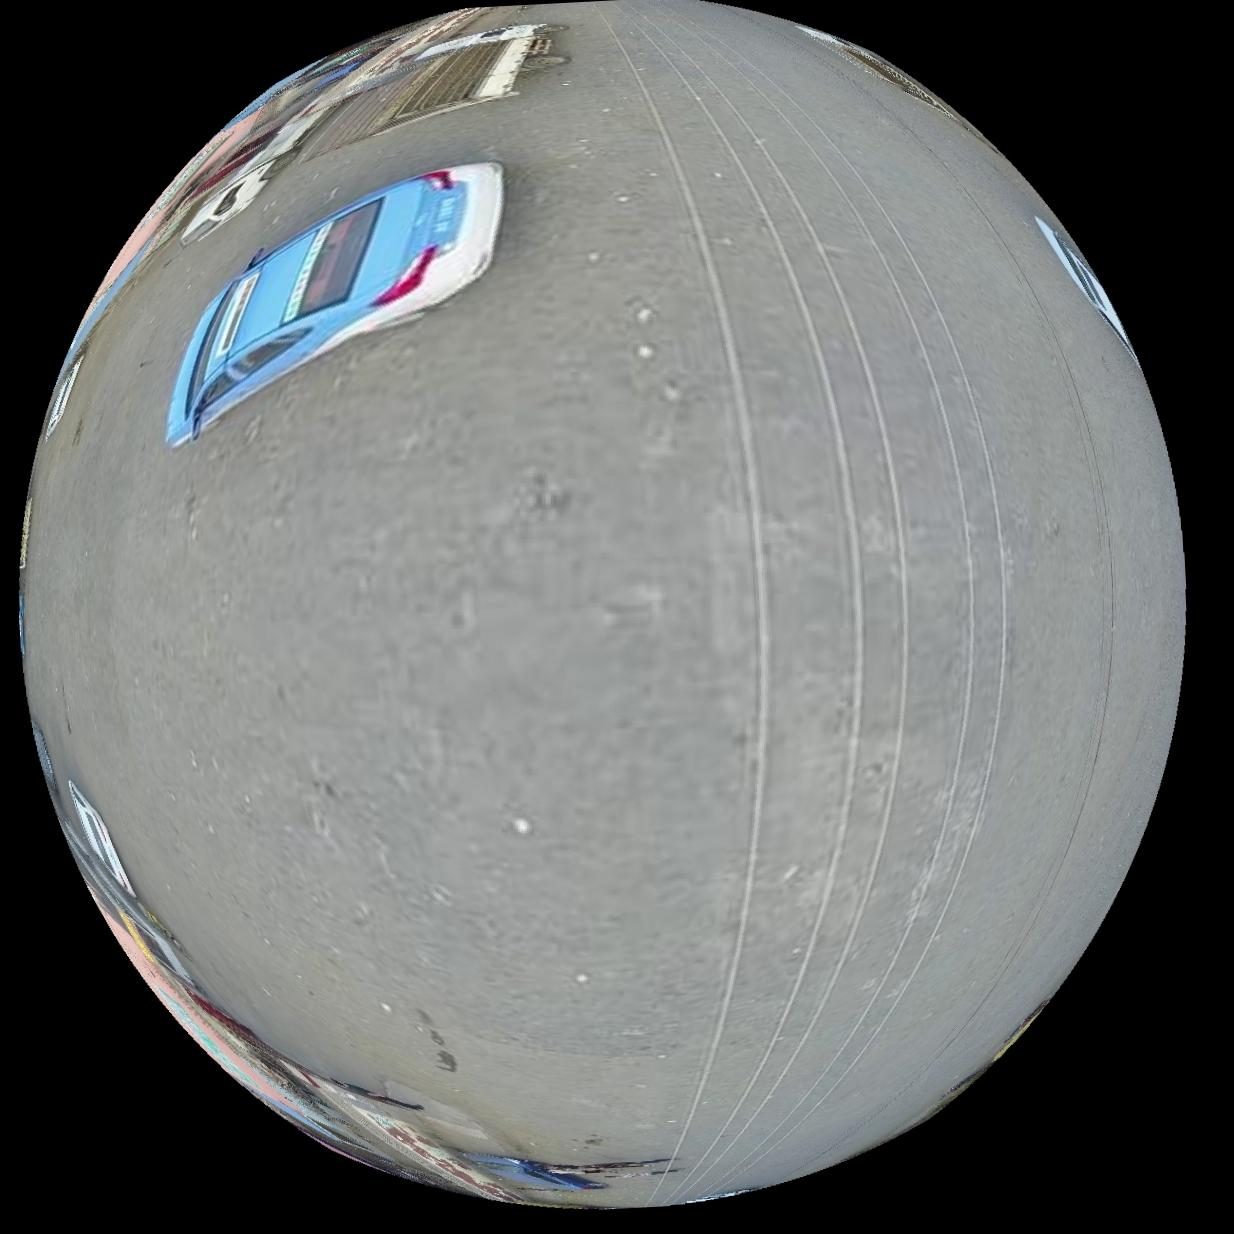cars: (164, 159, 504, 445), (301, 23, 550, 156), (1036, 212, 1136, 356), (68, 780, 133, 896), (460, 1154, 606, 1191)
